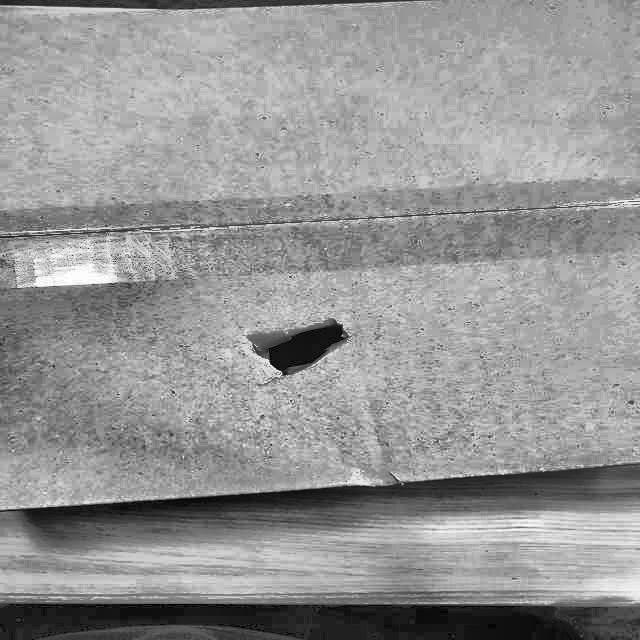box: (0, 0, 639, 526)
hole: (241, 321, 363, 377)
